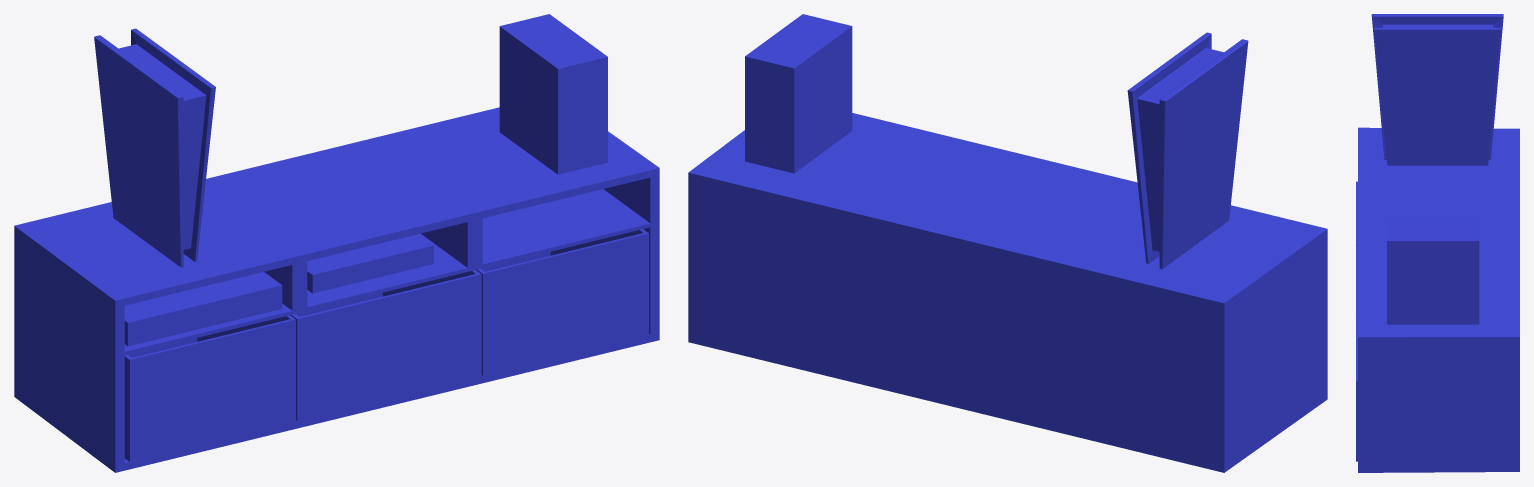
Rendered from Mesa_cajones_mat.fbx.
The picture shows the model from 3 angles, left to right: view 1: azimuth 30°, elevation 25°; view 2: azimuth 150°, elevation 25°; view 3: azimuth 270°, elevation 25°; orthographic projection. The views are drawn at different scales.
Visible parts, largest first — view 1: Cube.001, Plane.001, Cube.003, Cube.002, Cube.004, Cube.007, Cube.005, Cube.006; view 2: Cube.001, Plane.001, Cube.007; view 3: Cube.001, Plane.001, Cube.007, Cube.004.
Part boxes in pixels (box(x1,y1,x2,y2)): Cube.001: box(14, 107, 659, 472); Plane.001: box(94, 28, 215, 267); Cube.003: box(290, 270, 481, 421); Cube.002: box(124, 315, 295, 461); Cube.004: box(476, 229, 648, 375); Cube.007: box(499, 14, 607, 174); Cube.005: box(124, 272, 282, 346); Cube.006: box(307, 234, 433, 293); Cube.001: box(688, 113, 1327, 472); Plane.001: box(1127, 32, 1248, 269); Cube.007: box(745, 14, 852, 173); Cube.001: box(1358, 127, 1519, 472); Plane.001: box(1371, 14, 1503, 165); Cube.007: box(1387, 222, 1479, 324); Cube.004: box(1356, 317, 1357, 461).
Size of the model in its own units: 537 by 331 by 177.
